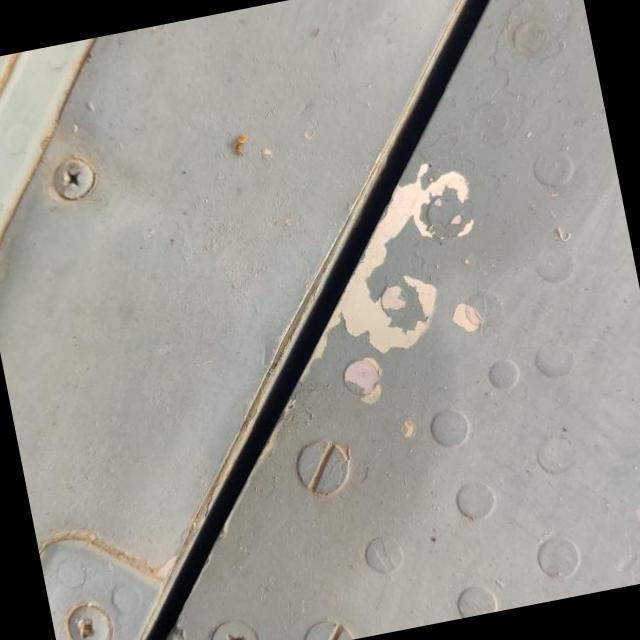Paint-off: (324, 170, 472, 351)
